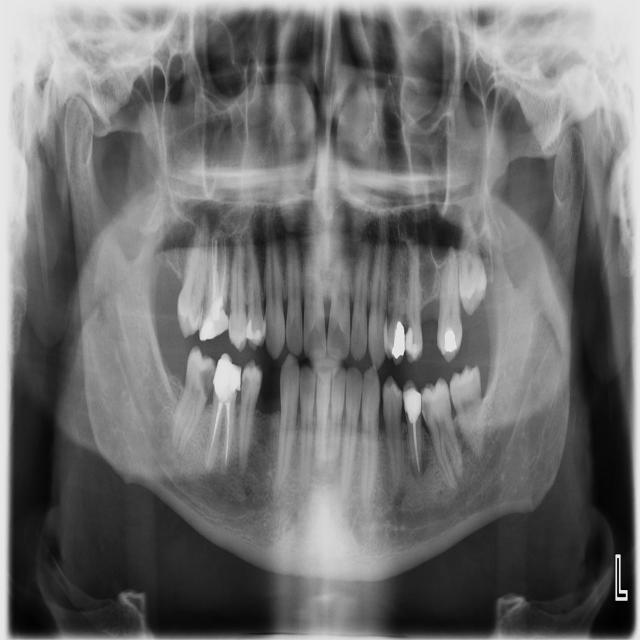mandibula: (64, 96, 587, 578)
